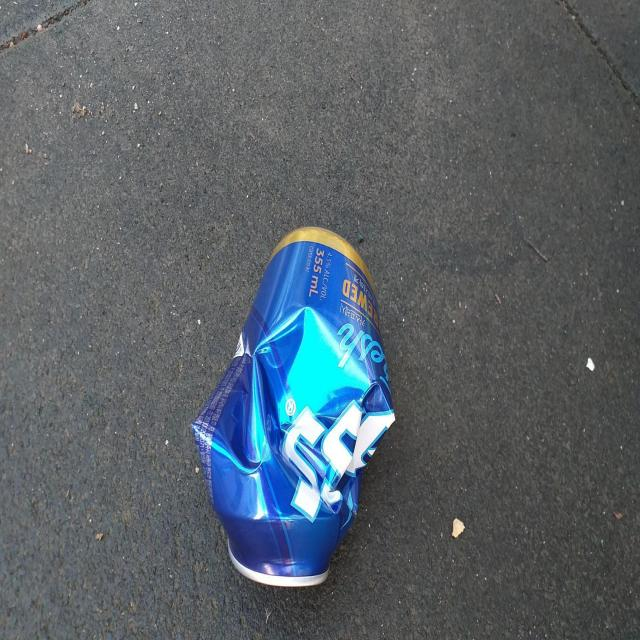can: (192, 228, 395, 588)
